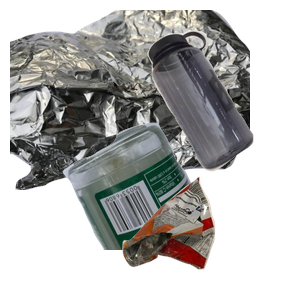glass: (60, 120, 300, 300)
metal: (10, 10, 250, 190)
plastic: (145, 28, 300, 192)
trash: (120, 174, 300, 300)
